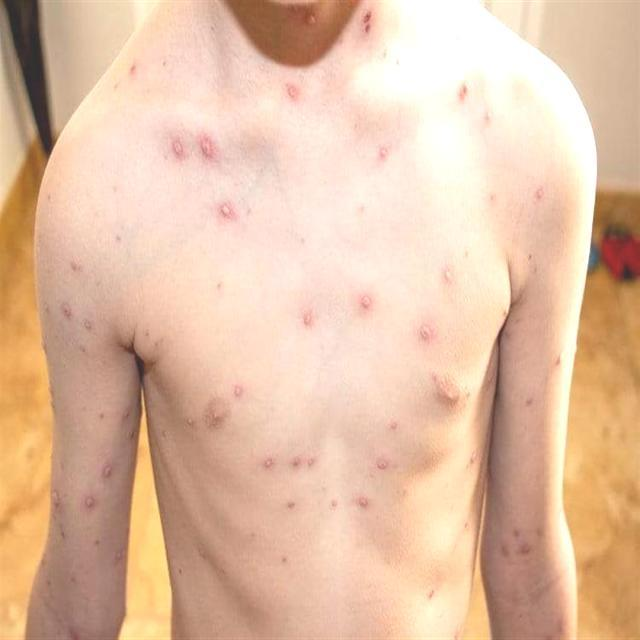Rosacea: (215, 201, 239, 225), (167, 133, 186, 161), (96, 461, 118, 484), (196, 133, 214, 159), (279, 84, 297, 105), (50, 490, 66, 513), (360, 292, 376, 313), (456, 80, 470, 103), (417, 325, 435, 342), (59, 302, 75, 319), (83, 494, 97, 511), (258, 454, 272, 470), (442, 267, 455, 283), (303, 311, 313, 328), (358, 496, 370, 509), (376, 459, 389, 469), (470, 450, 479, 464), (234, 382, 242, 397), (379, 147, 389, 159), (536, 188, 545, 200), (185, 417, 194, 428), (289, 500, 295, 509), (292, 458, 299, 465), (309, 457, 315, 465)
